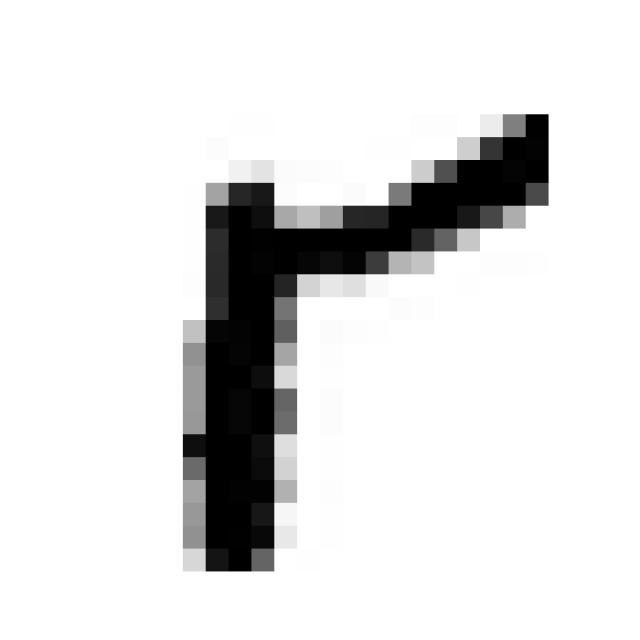3 -three-: (155, 94, 571, 598)
